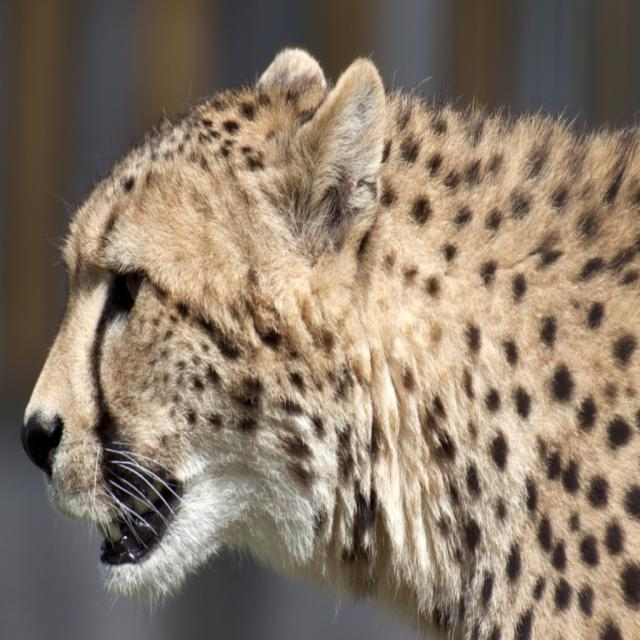Cheetah: (21, 41, 640, 640)
